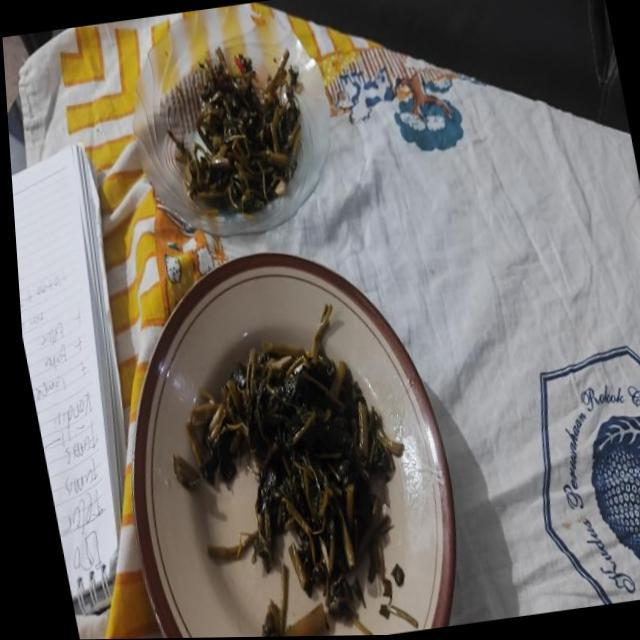tumis_kangkung: (186, 304, 418, 627), (175, 48, 302, 214)
